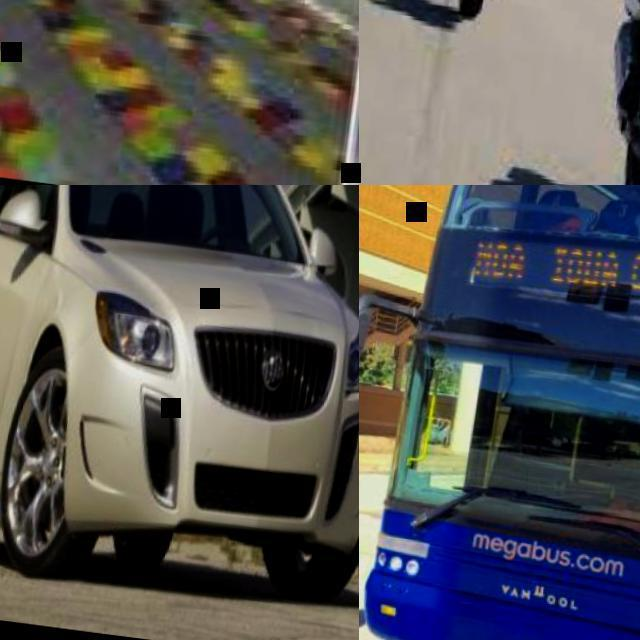car: (1, 193, 369, 600)
